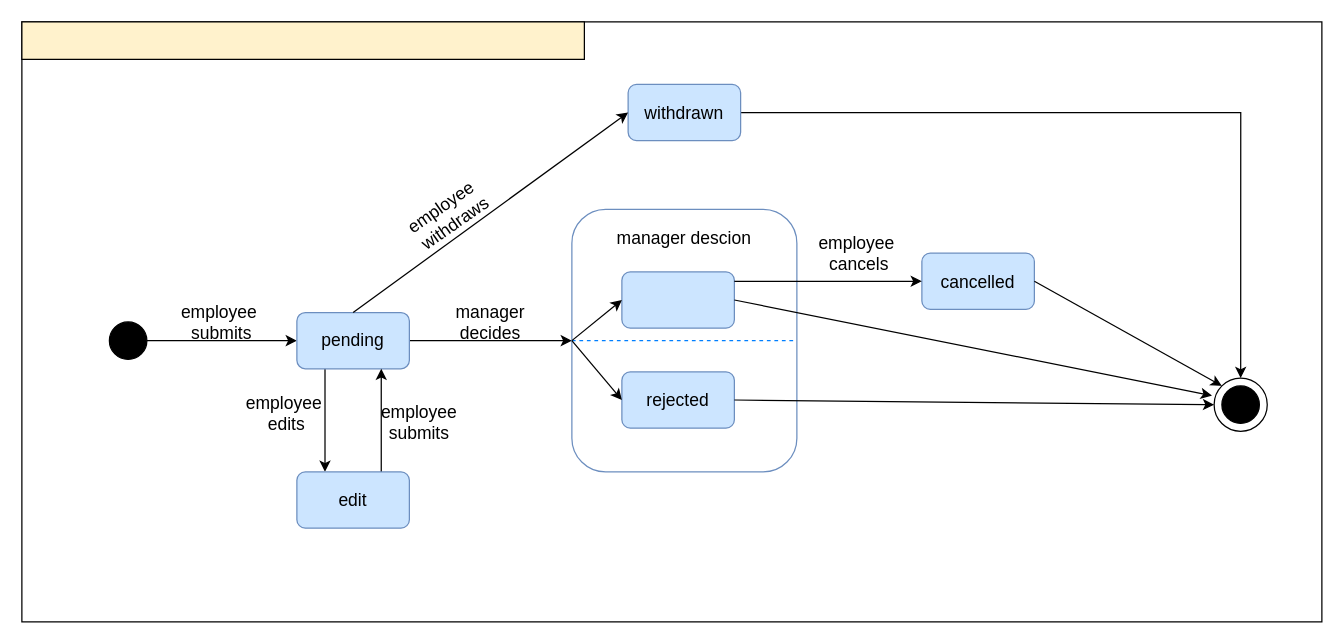
Some shapes in this 1344 by 644 pixel diagram are drawn without their labels. The shapes that lost their labels are listed below. From the top down, each one's centre as x and y in pixels, then its label:
[302,40]: State Machine Diagram of Vacation Request
[677,299]: approved
